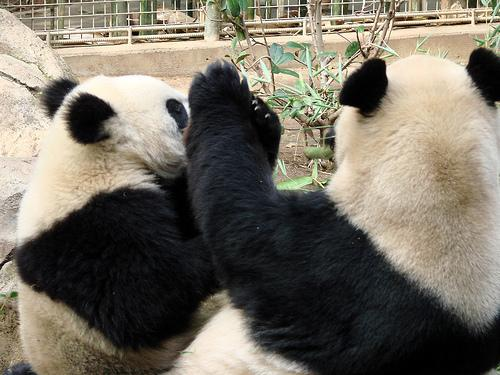panda: (167, 49, 499, 374), (13, 75, 219, 374)
